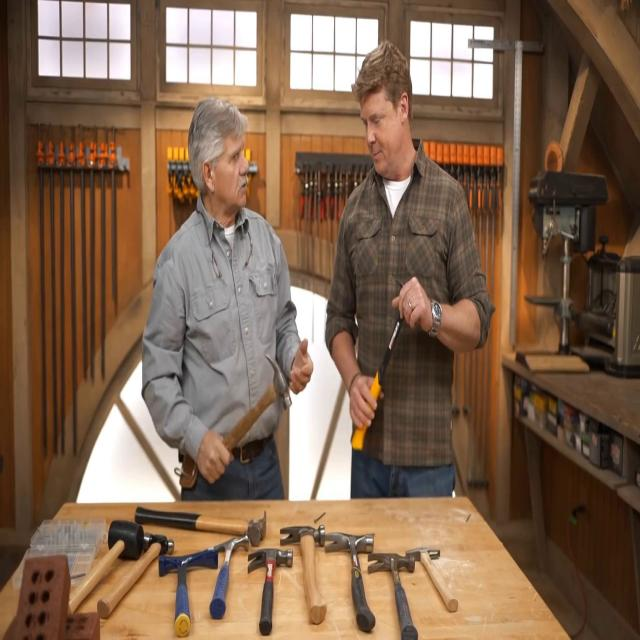hammer: (350, 279, 413, 450), (65, 519, 144, 617), (220, 354, 292, 455), (96, 532, 174, 619), (135, 505, 266, 548), (159, 548, 218, 637), (324, 532, 376, 632), (280, 525, 327, 624), (368, 552, 418, 640), (247, 547, 293, 636), (406, 546, 458, 613), (209, 534, 249, 620)
